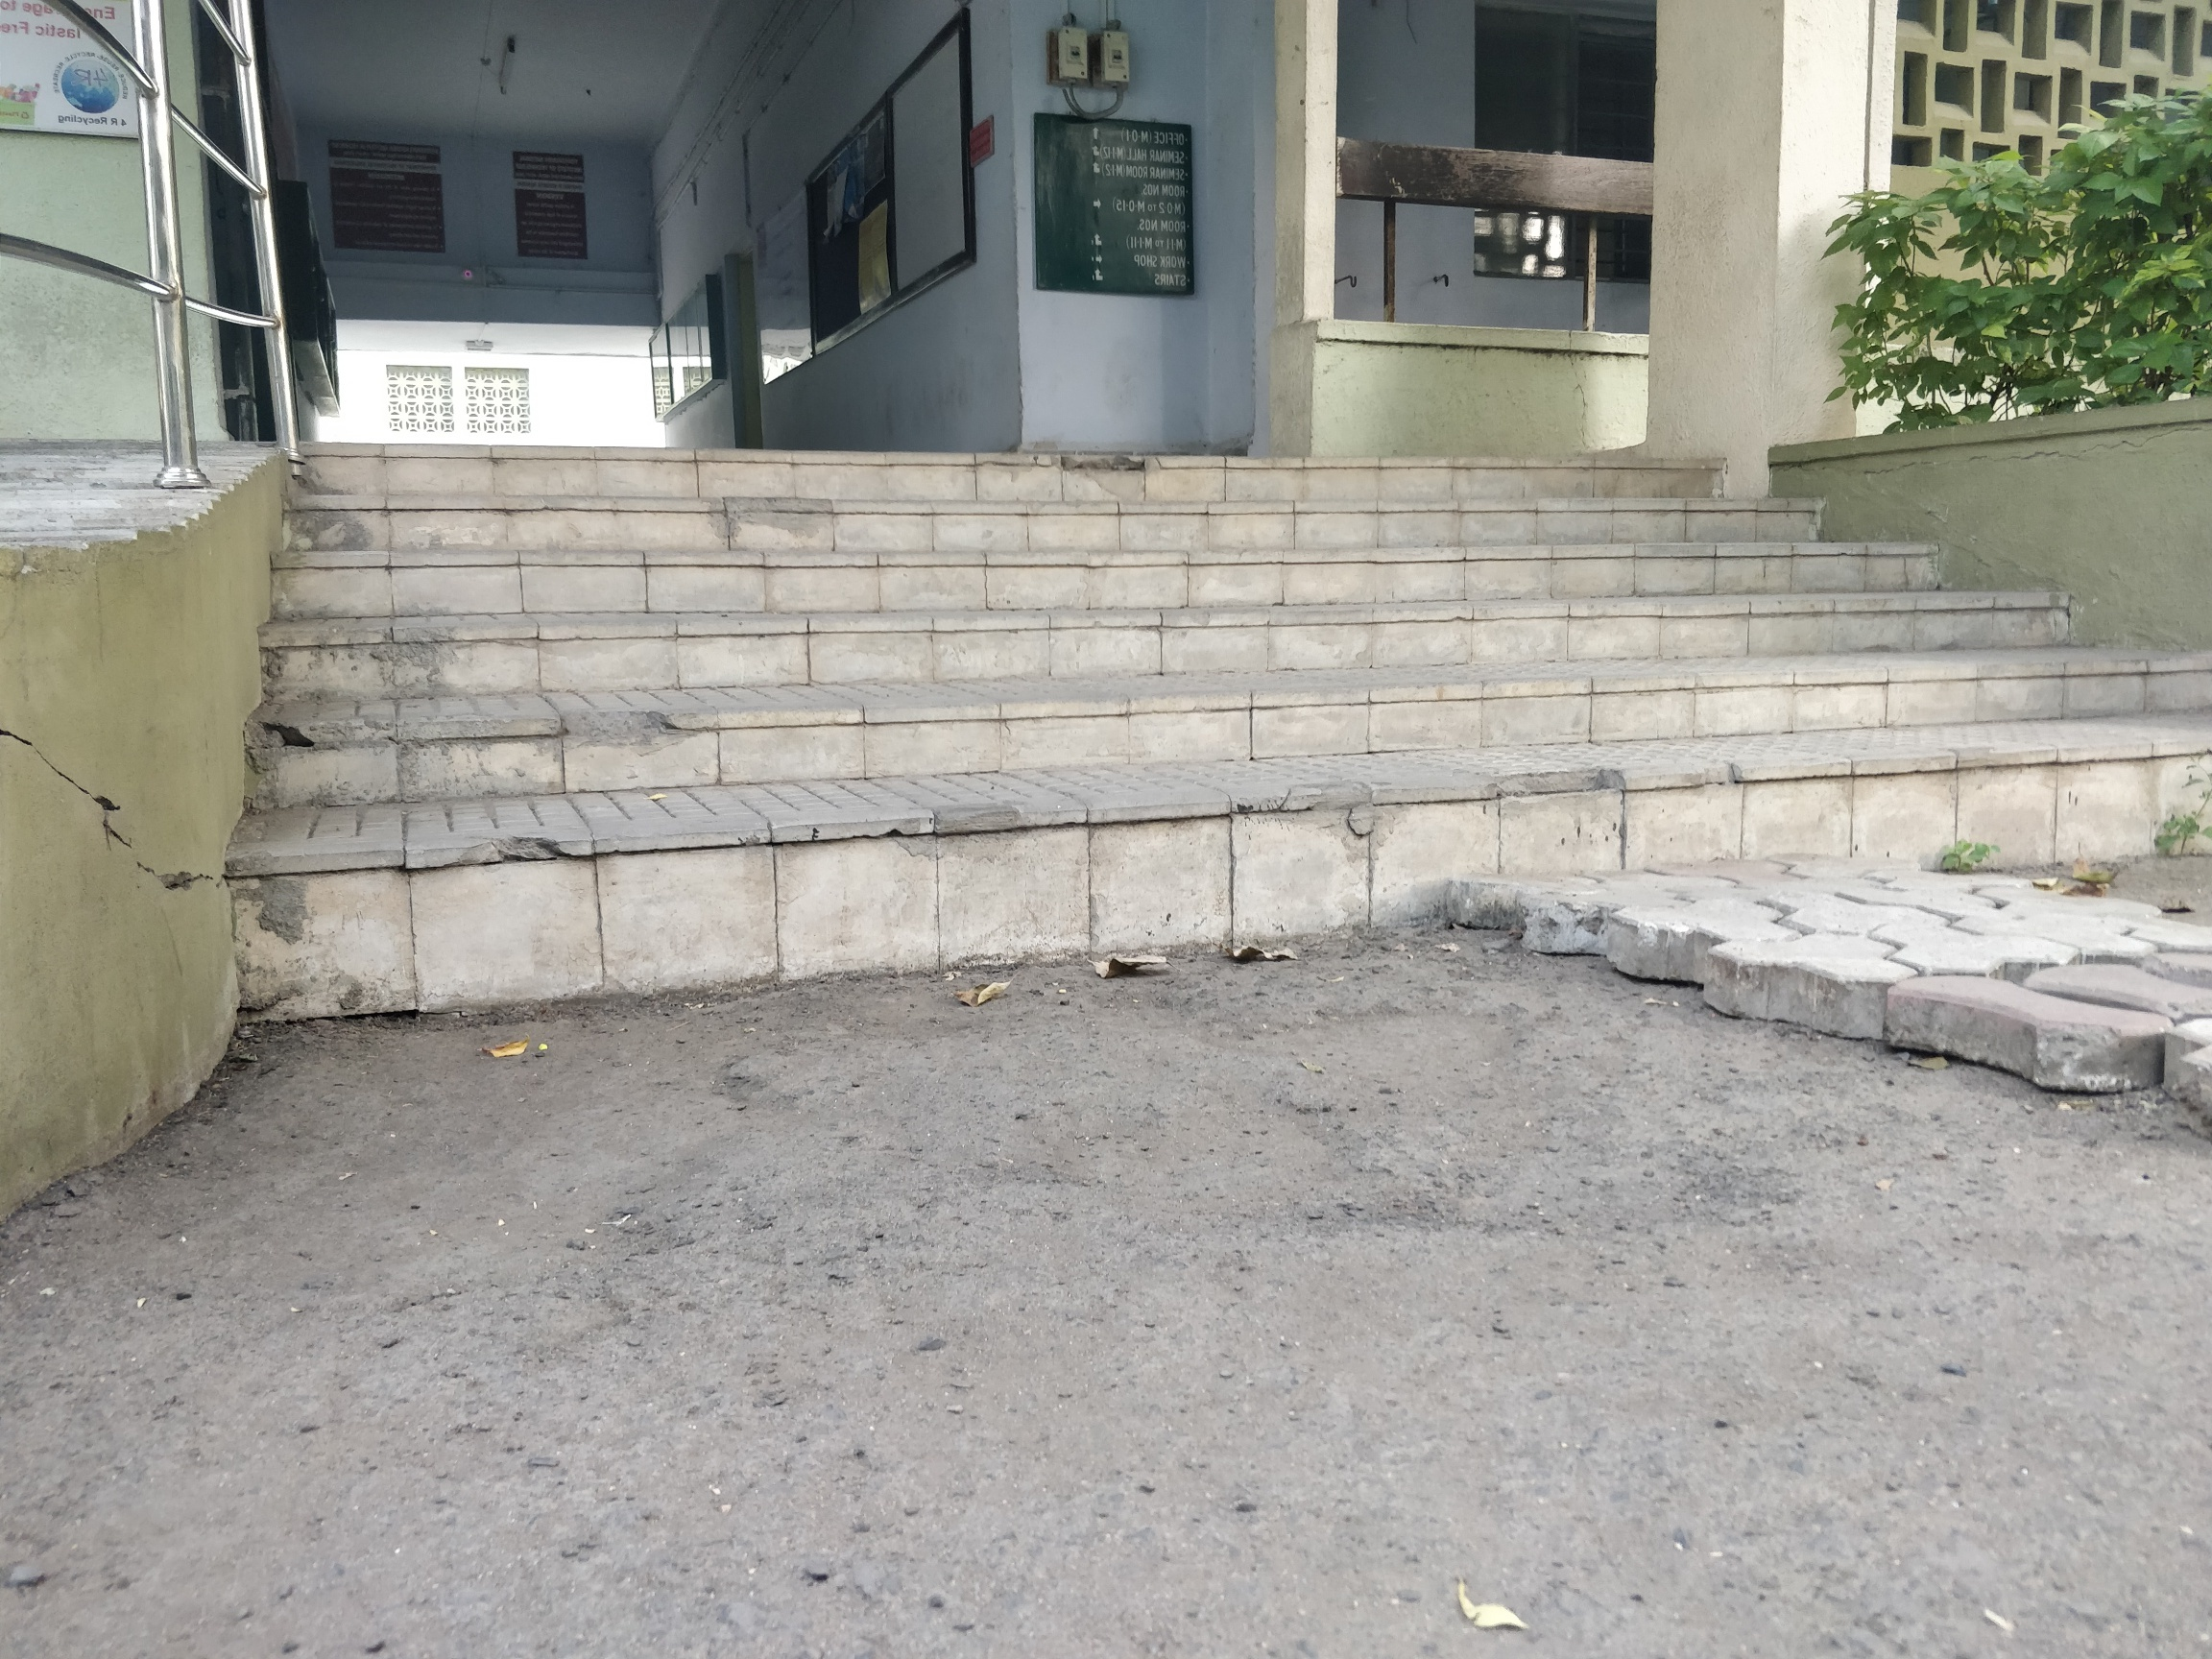stairs_up: (296, 413, 2207, 1000)
